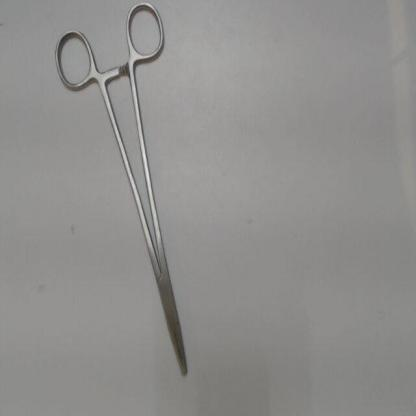8 Mayo Needle Holder: (48, 0, 198, 393)
